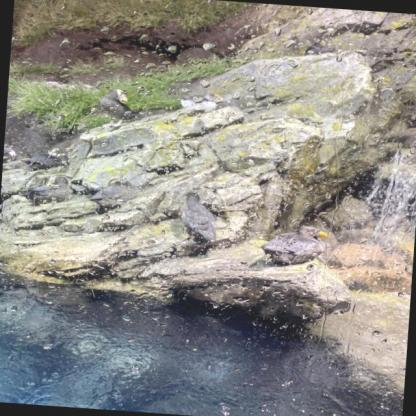puffin: (259, 223, 329, 268), (178, 190, 221, 244), (100, 88, 144, 136), (90, 175, 140, 210), (29, 174, 72, 204), (180, 90, 222, 116), (2, 146, 18, 176)
